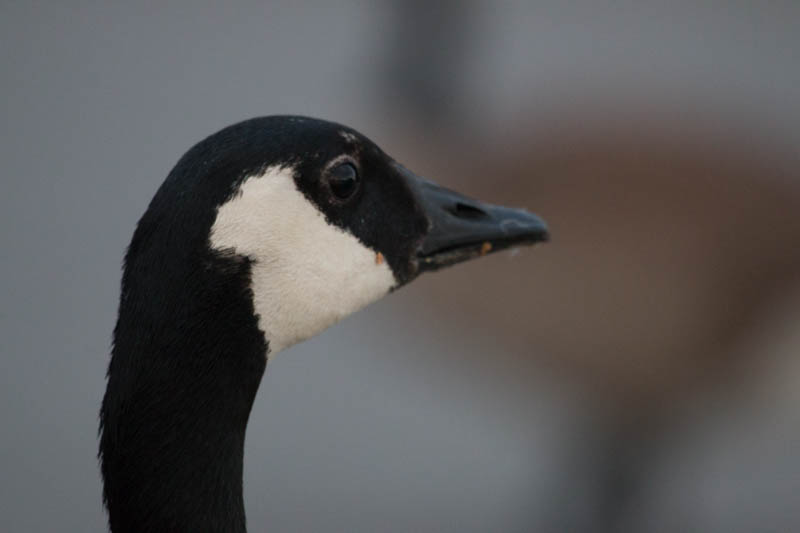goose-head: (122, 115, 551, 361)
